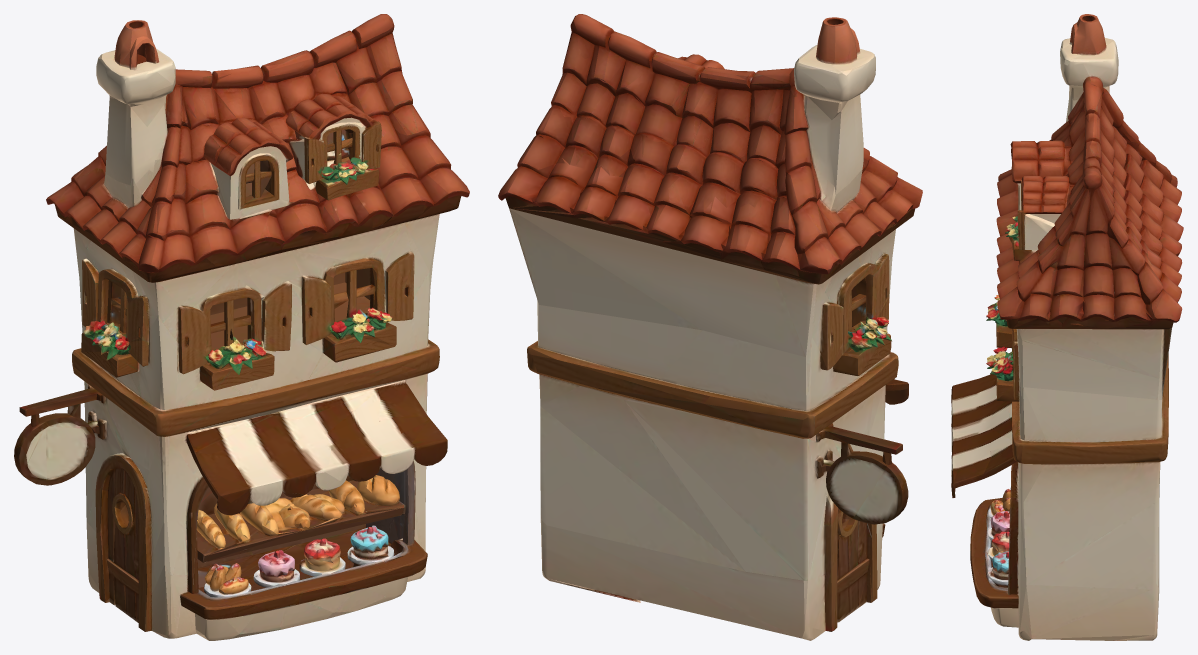
Rendered from shop_bakery.glb.
3 renders of one model, left to right at view 1: azimuth 30°, elevation 25°; view 2: azimuth 150°, elevation 25°; view 3: azimuth 270°, elevation 25°, orthographic. The views are drawn at different scales.
Bounding box in the file's own units: 7.5 × 11 × 4.5.
1 material, 1 textured.
